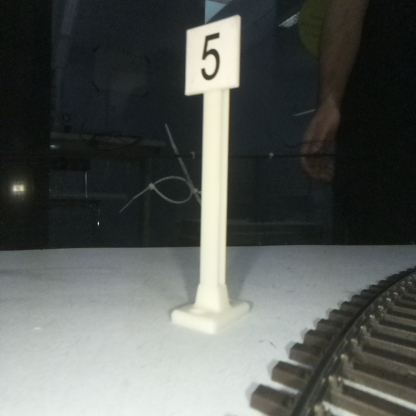white-info-5: (186, 18, 239, 321)
